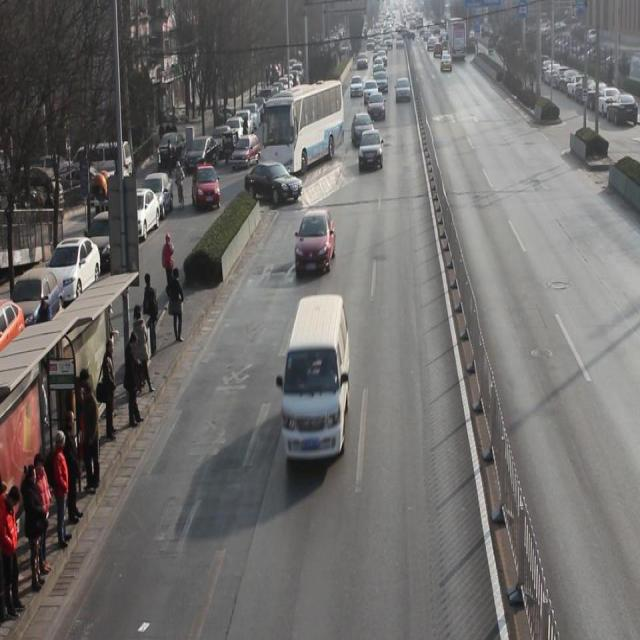car: (243, 159, 302, 207), (295, 209, 335, 276), (357, 128, 383, 172), (350, 113, 375, 148)
truck: (282, 294, 348, 463)
van: (260, 81, 341, 173)
